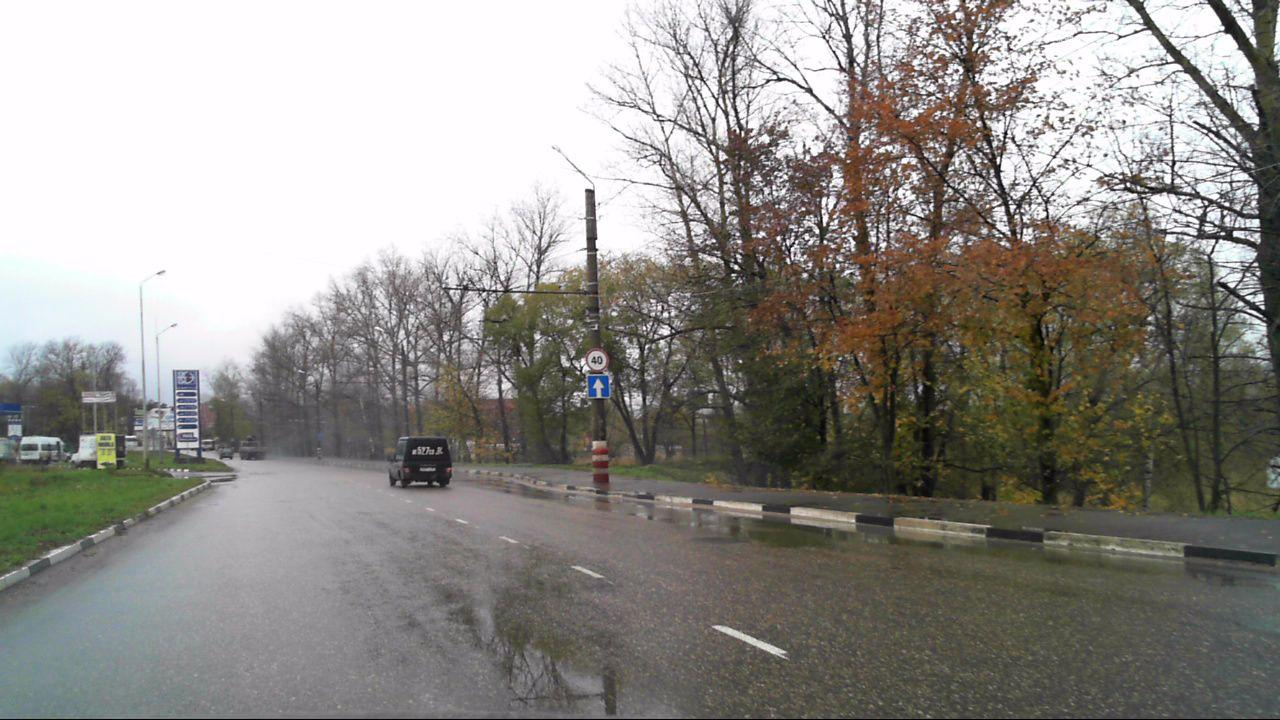3_24: (587, 348, 609, 372)
5_5: (585, 374, 611, 399)
